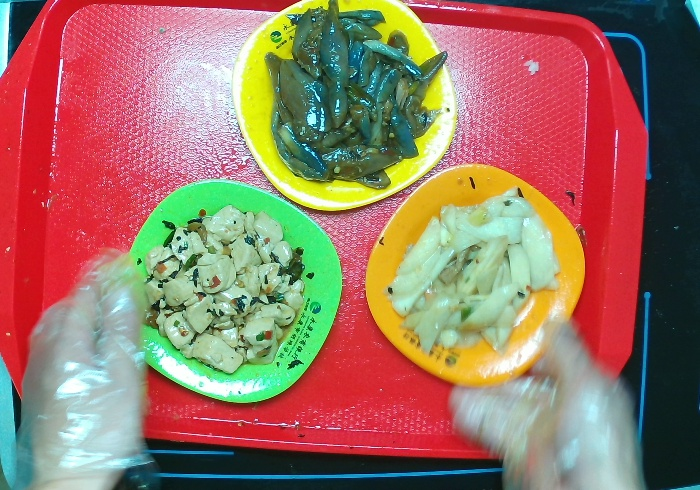YKMZ-Huang_Se_Fang_Die: (233, 1, 457, 212)
YKMZ-Ju_Se_Fang_Die: (364, 164, 592, 388)
YKMZ-Lv_Se_Fang_Die: (113, 178, 345, 405)
